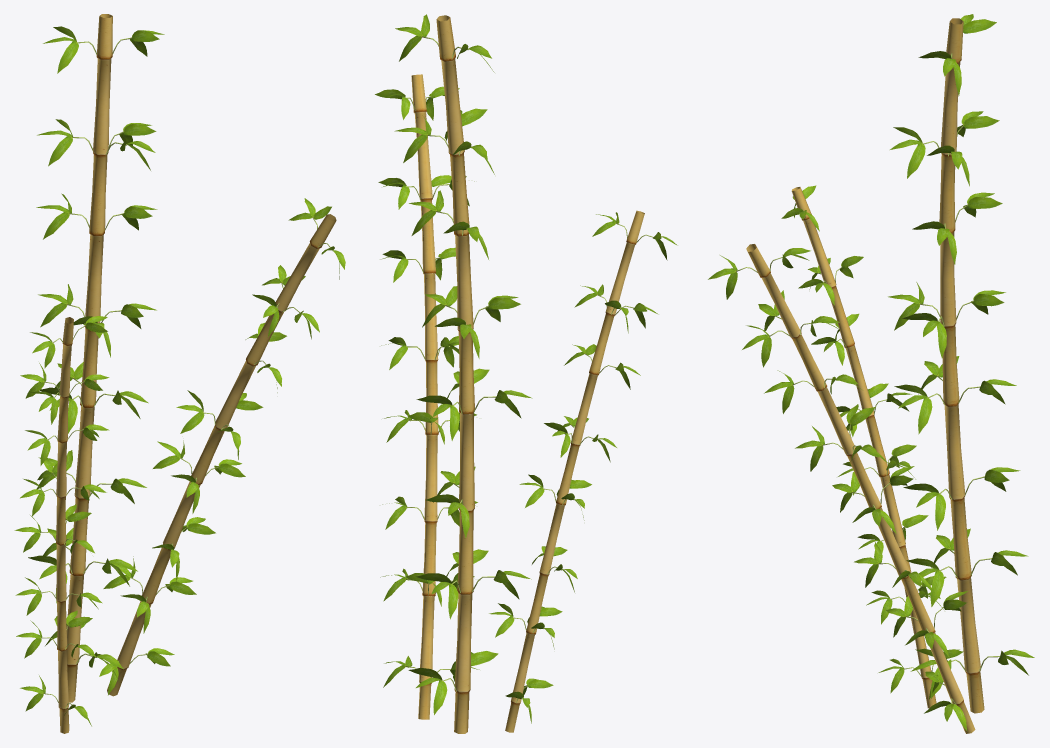
File: bamboo.dae
3 views of the same model, side by side, from view 1: azimuth 30°, elevation 25°; view 2: azimuth 150°, elevation 25°; view 3: azimuth 270°, elevation 25° (orthographic). The views are drawn at different scales.
Parts seen in each view (by area): view 1: Cylinder_002_Cylinder_007; view 2: Cylinder_002_Cylinder_007; view 3: Cylinder_002_Cylinder_007.
Boxes of the visible parts, x1=… form: Cylinder_002_Cylinder_007: x1=14, y1=14, x2=345, y2=733; Cylinder_002_Cylinder_007: x1=375, y1=14, x2=677, y2=733; Cylinder_002_Cylinder_007: x1=708, y1=14, x2=1034, y2=733.
Size of the model in its own units: 1.16 by 1.07 by 2.57.
Materials: 3 (2 with a texture image).
